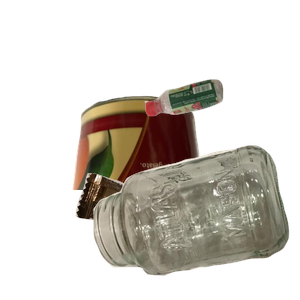glass: (91, 143, 300, 300)
metal: (69, 93, 265, 273)
plastic: (142, 77, 300, 186)
trash: (73, 171, 242, 300)
